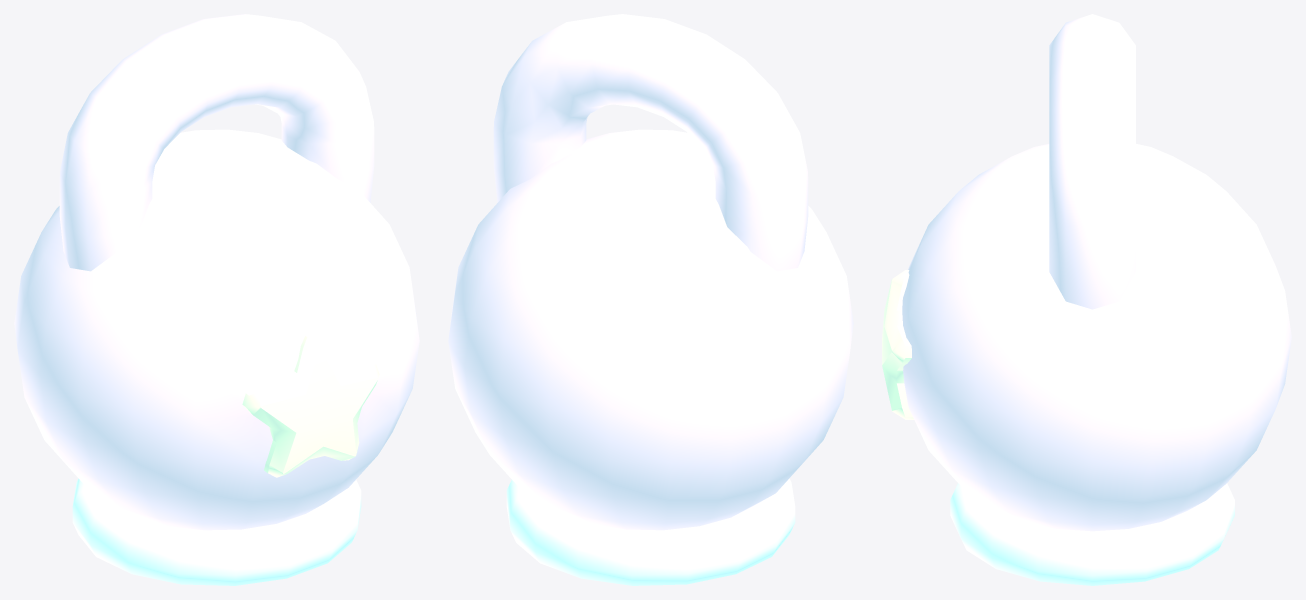
The model's file is props__Kettlebell.glb.
3 views of the same model, side by side, from view 1: azimuth 30°, elevation 25°; view 2: azimuth 150°, elevation 25°; view 3: azimuth 270°, elevation 25° (orthographic). The views are drawn at different scales.
Parts seen in each view (by area): view 1: Kettlebell; view 2: Kettlebell; view 3: Kettlebell.
Part boxes in pixels (<box>): Kettlebell: <box>14,14,419,585</box>; Kettlebell: <box>448,14,853,585</box>; Kettlebell: <box>882,14,1291,585</box>.
Size of the model in its own units: 1.4 by 1.94 by 1.44.
